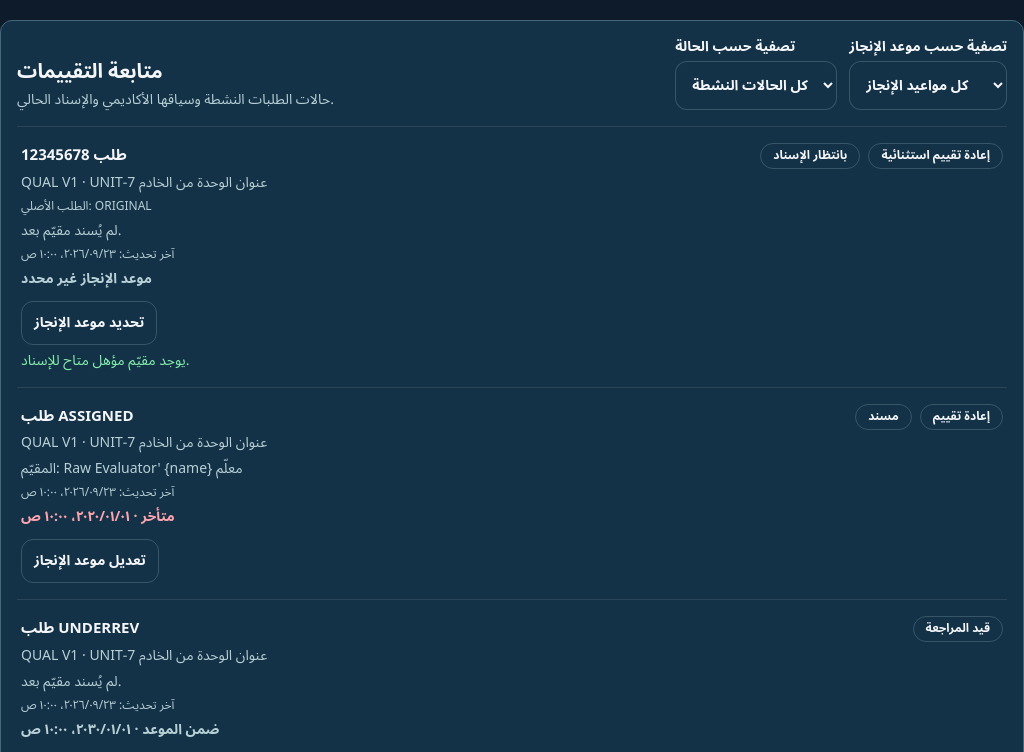
Test case: Admin assessment coordination ar — MOCKED UI-CONTRACT EVIDENCE › AssessmentCoordinationQueue › rejects invalid expected completion date without PUT
Expected: the text "يوجد مقيّم مؤهل متاح للإسناد." is shown, [21, 346, 190, 374]
Click the button "تحديد موعد الإنجاز": (89, 322) [21, 300, 157, 344]
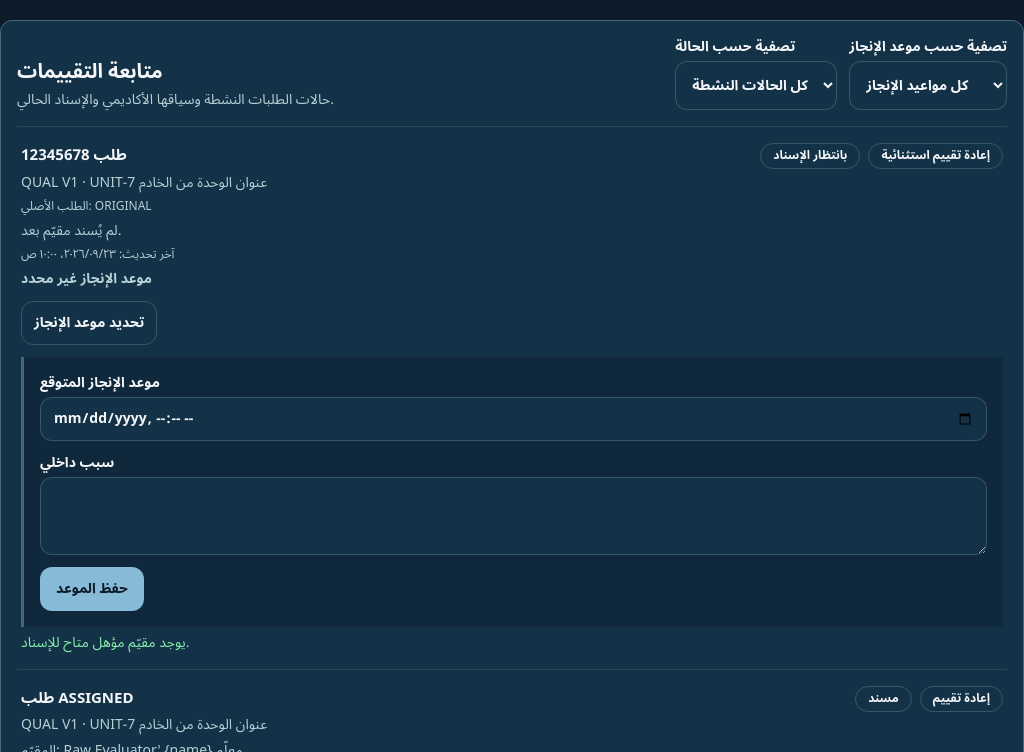
In the text box labelled "سبب داخلي": (514, 516) [40, 476, 987, 554], type "Reason"
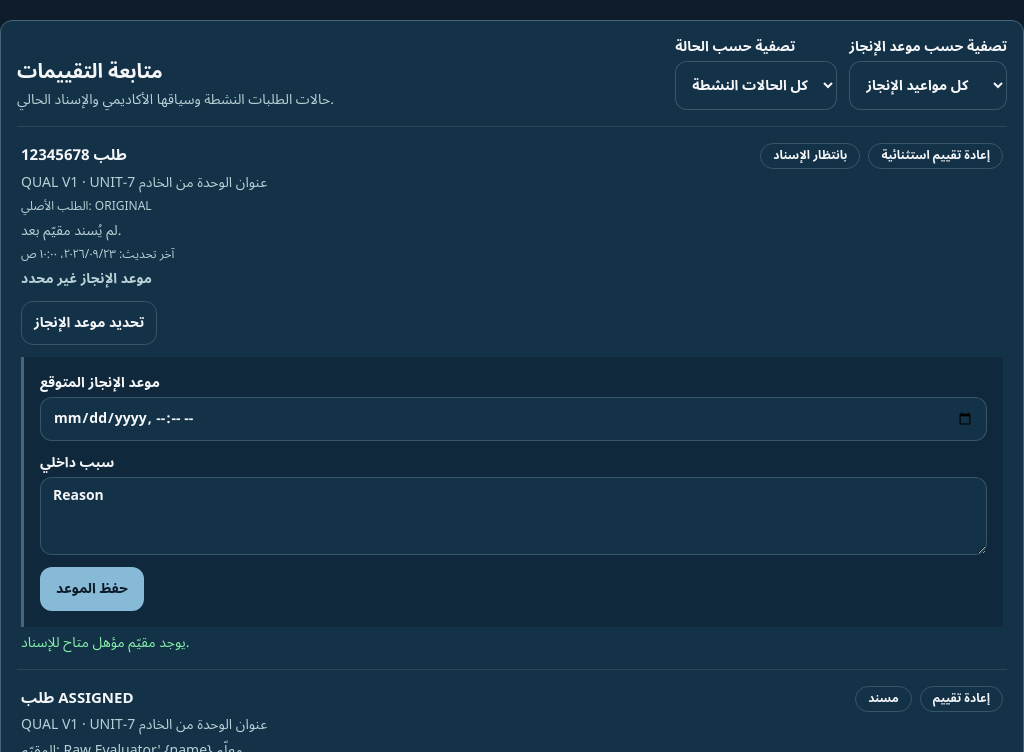
Submit the form, box [21, 356, 1003, 626]
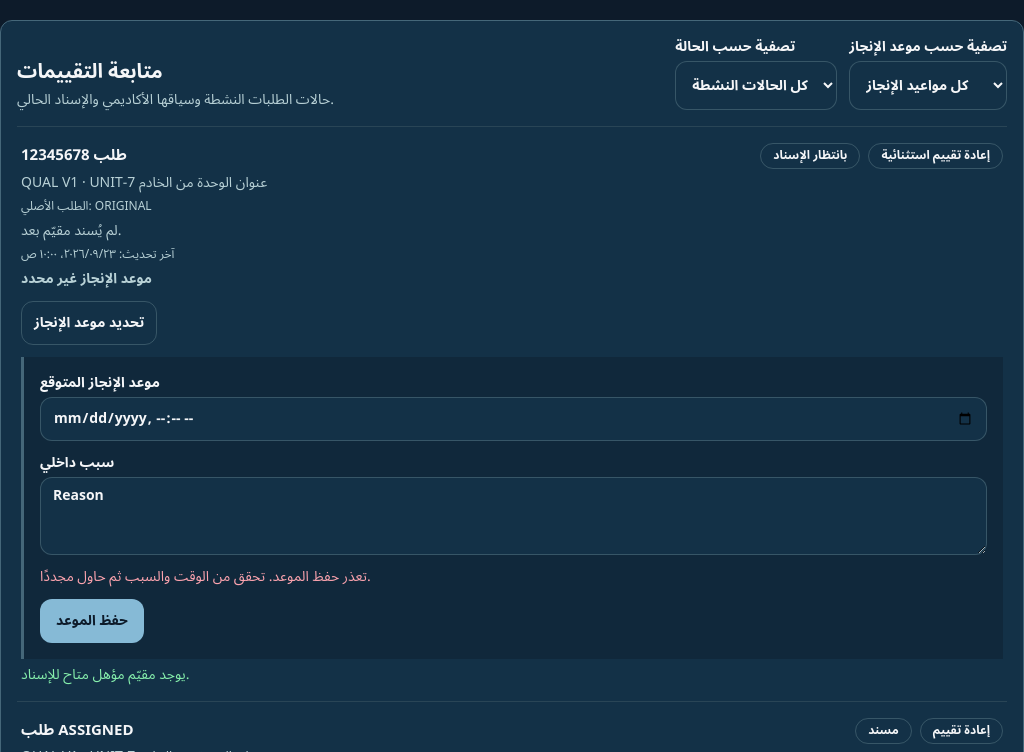
Now the message "تعذر حفظ الموعد. تحقق من الوقت والسبب ثم حاول مجددًا." is shown, box [40, 562, 371, 590]
